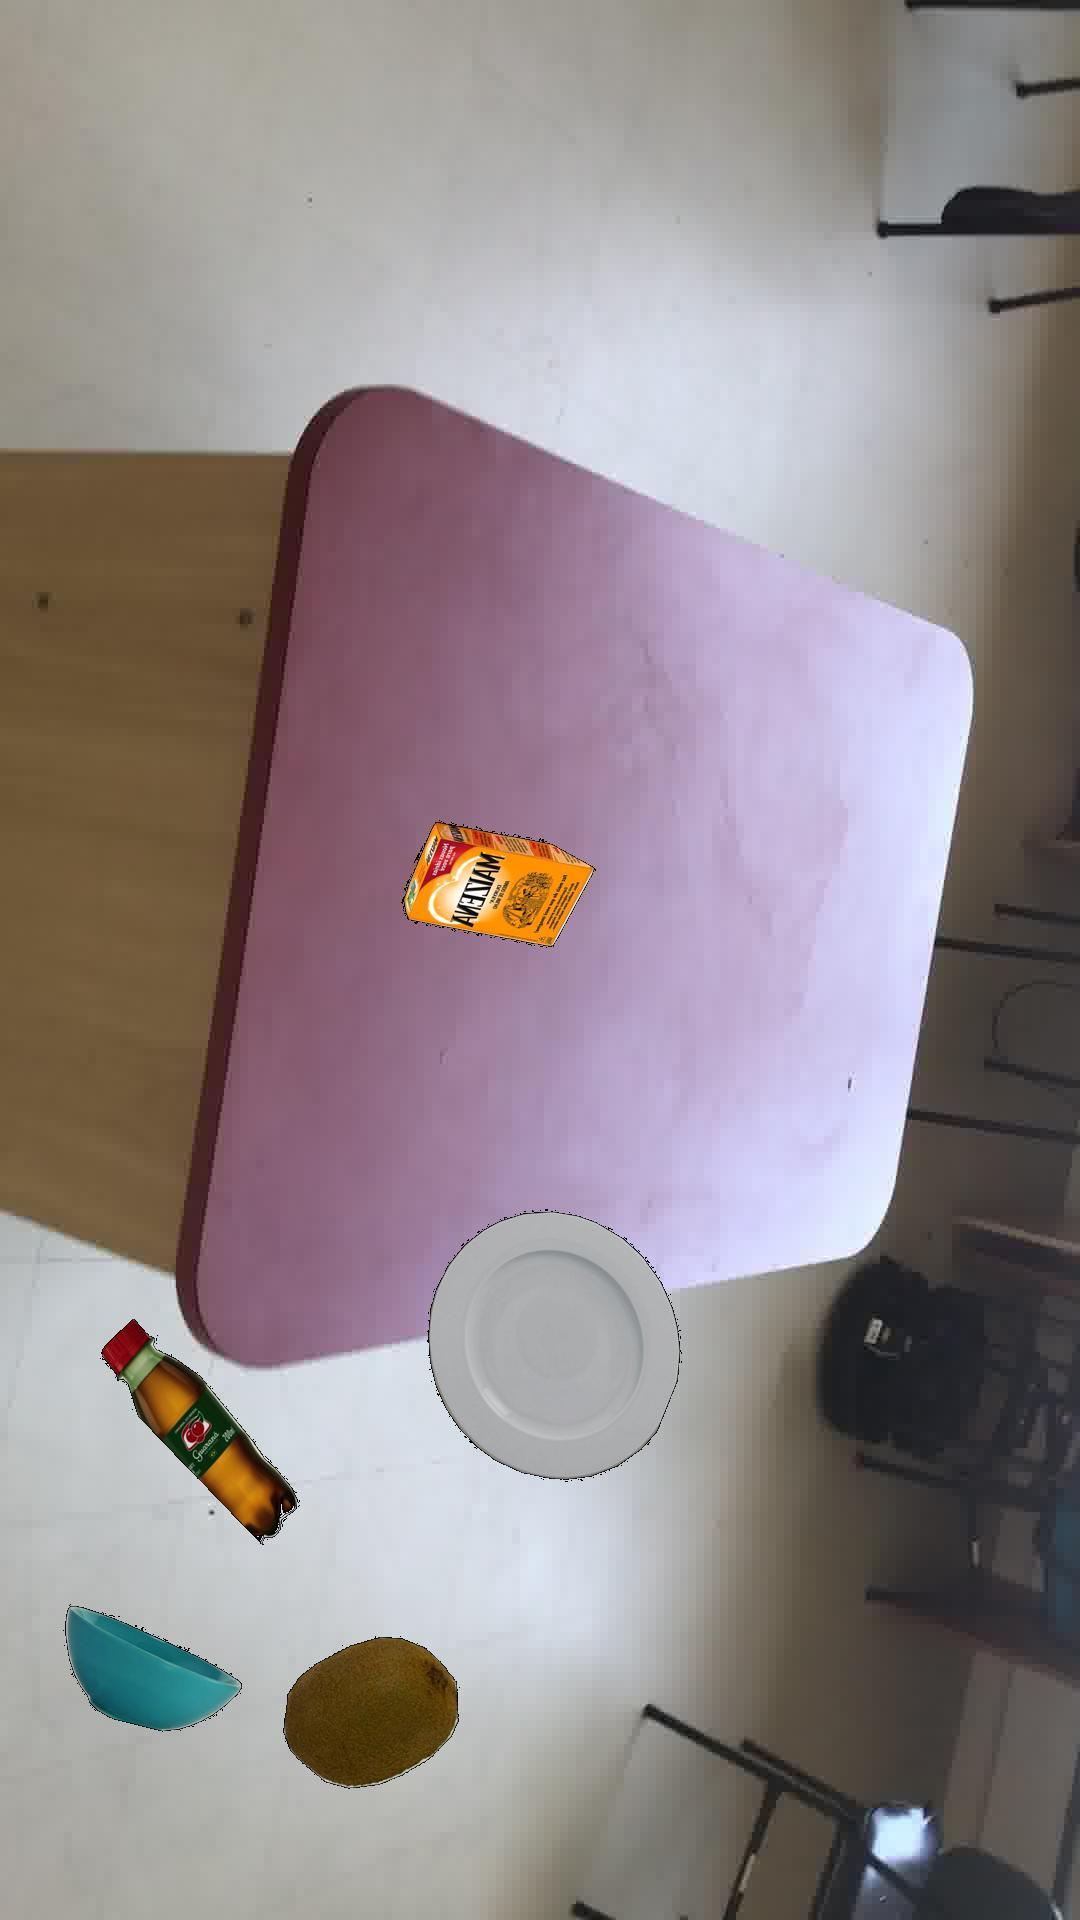bowl: (63, 1605, 240, 1730)
guarana: (99, 1317, 297, 1543)
kiwi: (281, 1634, 458, 1788)
plate: (426, 1209, 679, 1478)
